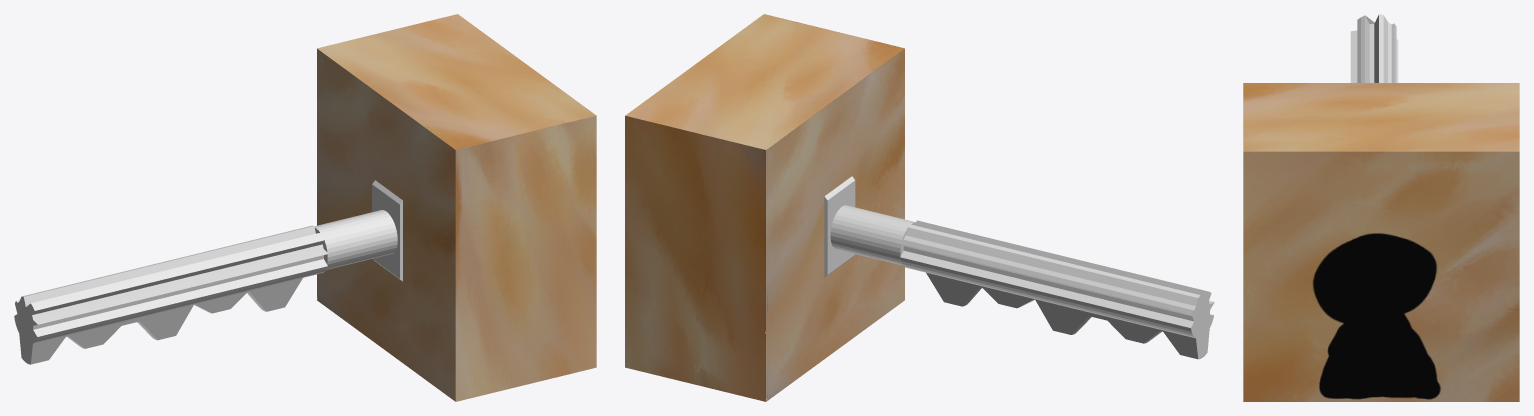
The model's file is keypad.dae.
The picture shows the model from 3 angles, left to right: view 1: azimuth 30°, elevation 25°; view 2: azimuth 150°, elevation 25°; view 3: azimuth 270°, elevation 25°; orthographic projection.
Parts seen in each view (by area): view 1: Cube, Cube.001; view 2: Cube, Cube.001; view 3: Cube, Cube.001.
Boxes of the visible parts, left/top/right/bottom form: Cube: left=317, top=14, right=596, bottom=401; Cube.001: left=14, top=180, right=402, bottom=364; Cube: left=625, top=14, right=904, bottom=401; Cube.001: left=824, top=176, right=1214, bottom=359; Cube: left=1243, top=83, right=1519, bottom=401; Cube.001: left=1350, top=14, right=1398, bottom=82.
Bounding box in the file's own units: 4.19 × 2 × 2.
Materials: 2 (1 with a texture image).
